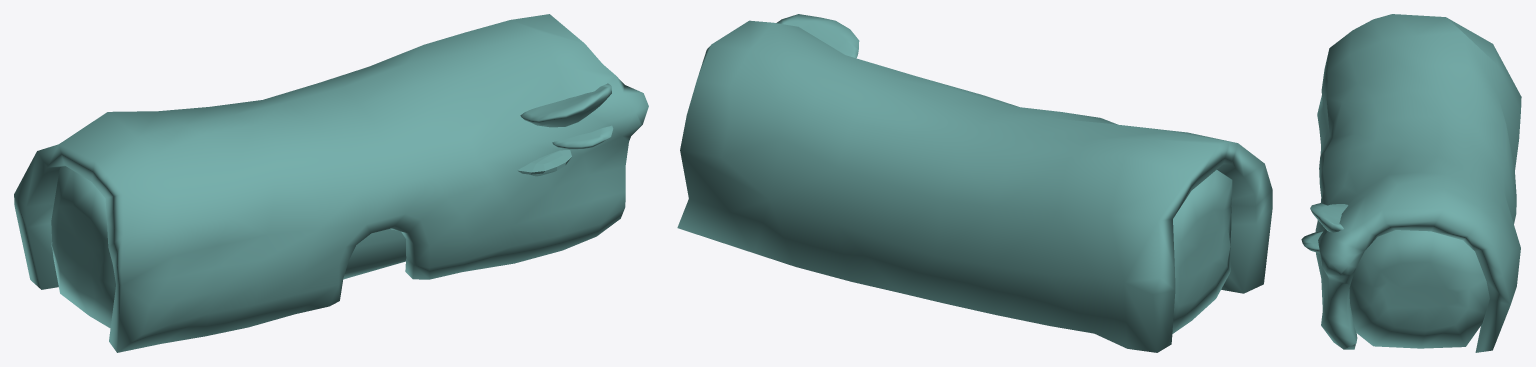
The model's file is tronco.fbx.
3 renders of one model, left to right at view 1: azimuth 30°, elevation 25°; view 2: azimuth 150°, elevation 25°; view 3: azimuth 270°, elevation 25°, orthographic. The views are drawn at different scales.
Visible parts, largest first — view 1: troncoAfuera_lp, troncoAdentro_lp, hongo1_lp, hongo3_lp, hongo2_lp; view 2: troncoAfuera_lp, troncoAdentro_lp, hongo1_lp; view 3: troncoAfuera_lp, troncoAdentro_lp, hongo1_lp, hongo2_lp.
Part boxes in pixels (x1,y1,x2,y2): troncoAfuera_lp: (14,14,648,352); troncoAdentro_lp: (51,166,406,328); hongo1_lp: (520,83,611,127); hongo3_lp: (517,150,571,176); hongo2_lp: (552,125,613,149); troncoAfuera_lp: (677,20,1272,352); troncoAdentro_lp: (1172,170,1232,333); hongo1_lp: (776,14,859,58); troncoAfuera_lp: (1315,14,1521,352); troncoAdentro_lp: (1349,230,1489,348); hongo1_lp: (1310,203,1348,232); hongo2_lp: (1301,230,1323,253).
Size of the model in its own units: 561 by 188 by 239.
